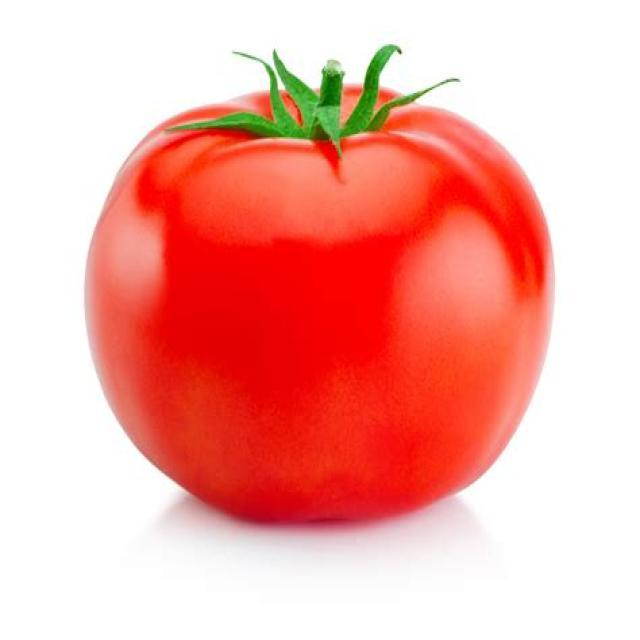Tomato: (83, 46, 557, 530)
